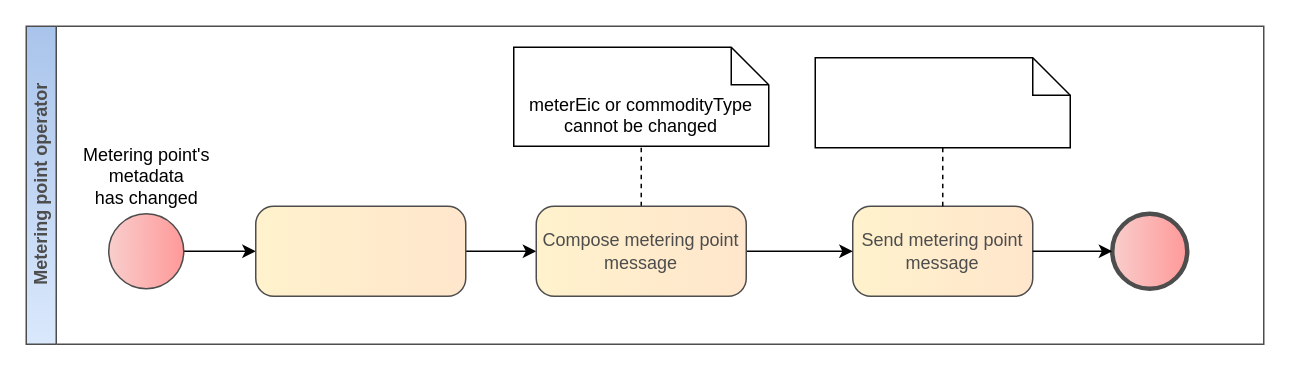
Some shapes in this 1290 by 371 pixel diagram are drawn without their labels. The centre of each missing label's shape, as x and y in pixels:
Metadata changed: [1149,250]
PUT api/{version}/meter: [942,102]
Update metadata in internal system: [360,250]
